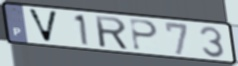1: (72, 13, 91, 47)
3: (198, 25, 227, 59)
7: (163, 20, 191, 57)
P: (128, 17, 160, 53)
R: (93, 14, 131, 52)
V: (26, 8, 60, 45)
